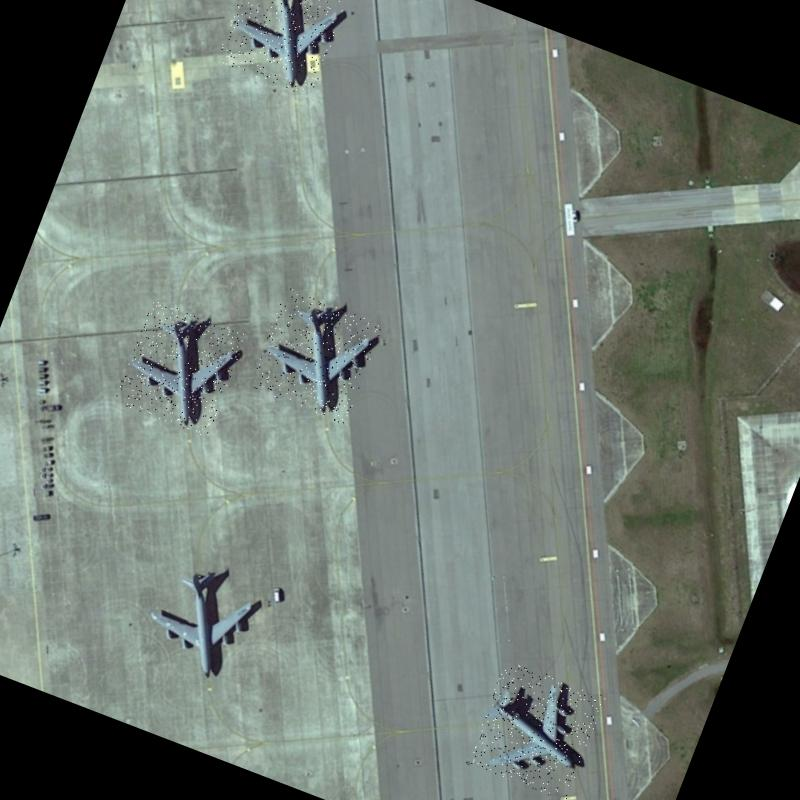A14: (465, 658, 605, 800), (247, 286, 384, 424), (134, 551, 268, 690), (114, 299, 246, 438), (215, 0, 349, 97)
